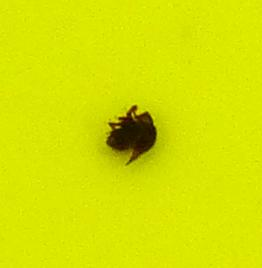Hymenoptera: (100, 100, 162, 168)
